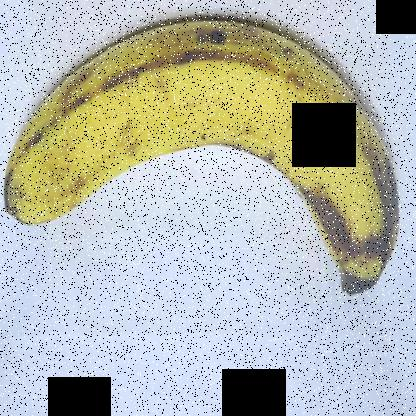ripe: (1, 6, 415, 321)
